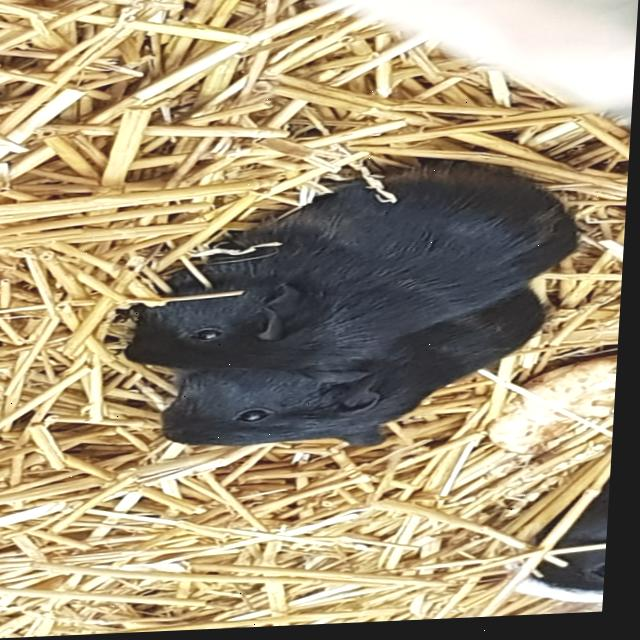guinea pig: (130, 158, 595, 392), (161, 290, 557, 460)
